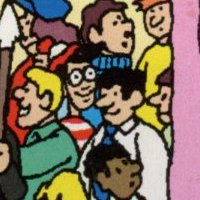waldo: (61, 40, 95, 113)
